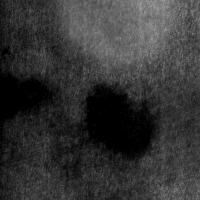patches: (52, 0, 182, 72), (138, 74, 200, 176), (82, 83, 155, 160), (1, 68, 51, 123)
